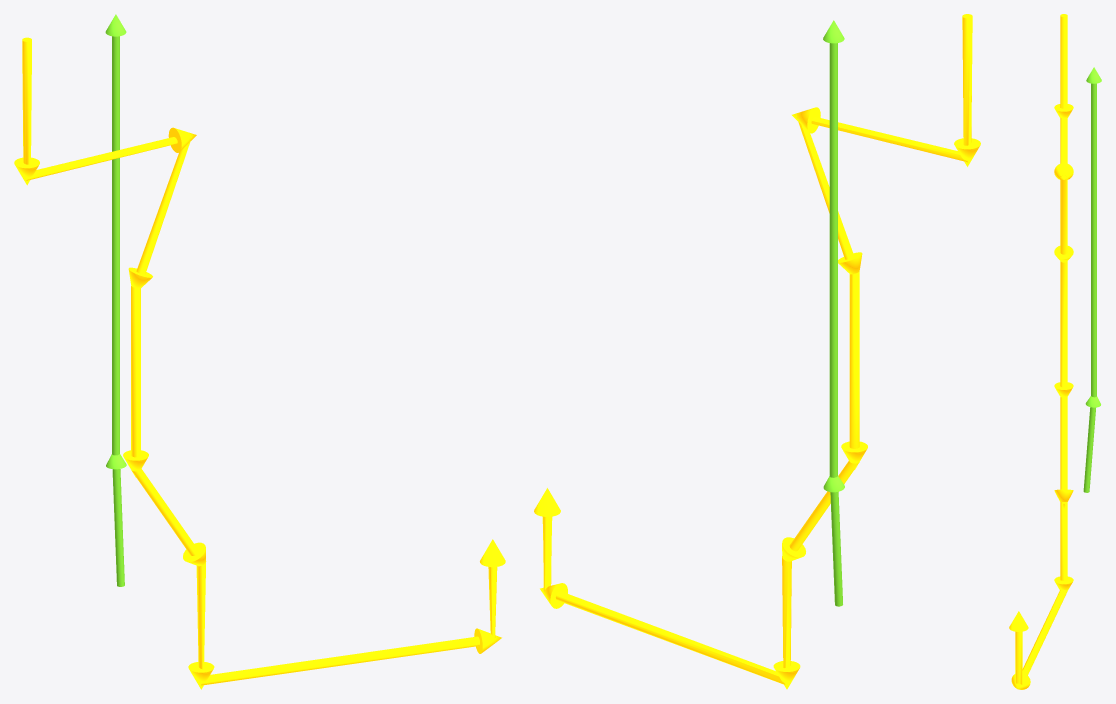
The model's file is variable_frequency_drive_flow.glb.
The picture shows the model from 3 angles, left to right: view 1: azimuth 30°, elevation 25°; view 2: azimuth 150°, elevation 25°; view 3: azimuth 270°, elevation 25°; orthographic projection. The views are drawn at different scales.
Visible parts, largest first — view 1: power, cooling_air; view 2: power, cooling_air; view 3: power, cooling_air.
Boxes of the visible parts, x1,y1,x2,y2 form: power: (14, 37, 505, 689); cooling_air: (105, 14, 126, 586); power: (534, 14, 980, 689); cooling_air: (823, 20, 844, 606); power: (1009, 14, 1073, 689); cooling_air: (1083, 67, 1101, 492).
Bounding box in the file's own units: 1.05 × 1.53 × 0.2468.
